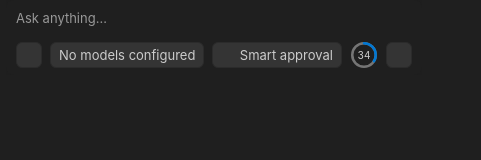
Composer context ring › reads out one figure per row, label and value apart
Hover over the picture with id "ctx-ring": (364, 55) [350,41,378,69]
Wait 600 ms
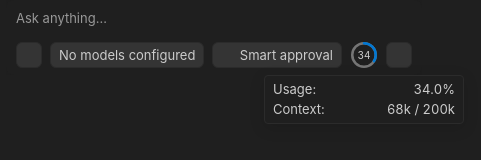
Expected: the text with class "ctx-row-value" reads "34.0%", [414,81,455,97]
Expected: the text with class "ctx-row-value" reads "68k / 200k", [387,100,455,116]
